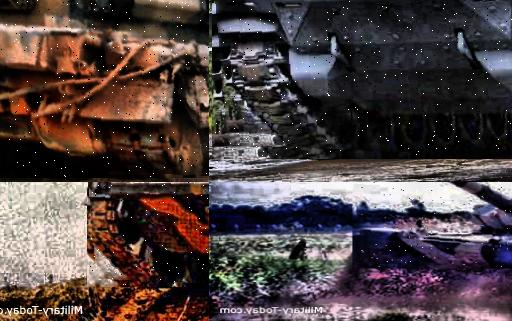tanks: (215, 1, 512, 157), (1, 1, 210, 178), (359, 183, 512, 269), (89, 183, 210, 285)
